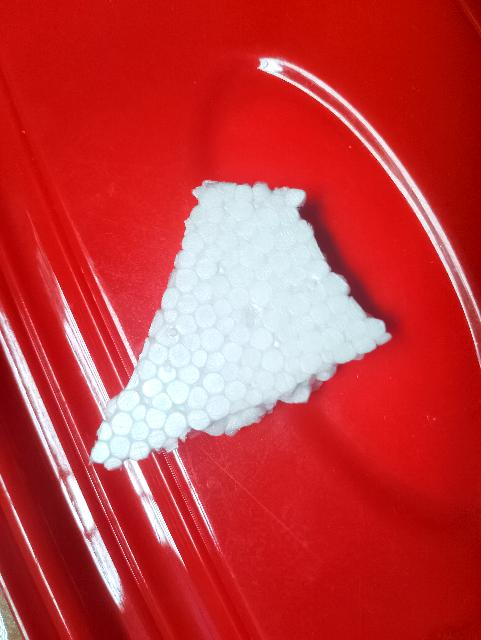cocksheet: (0, 131, 388, 460)
